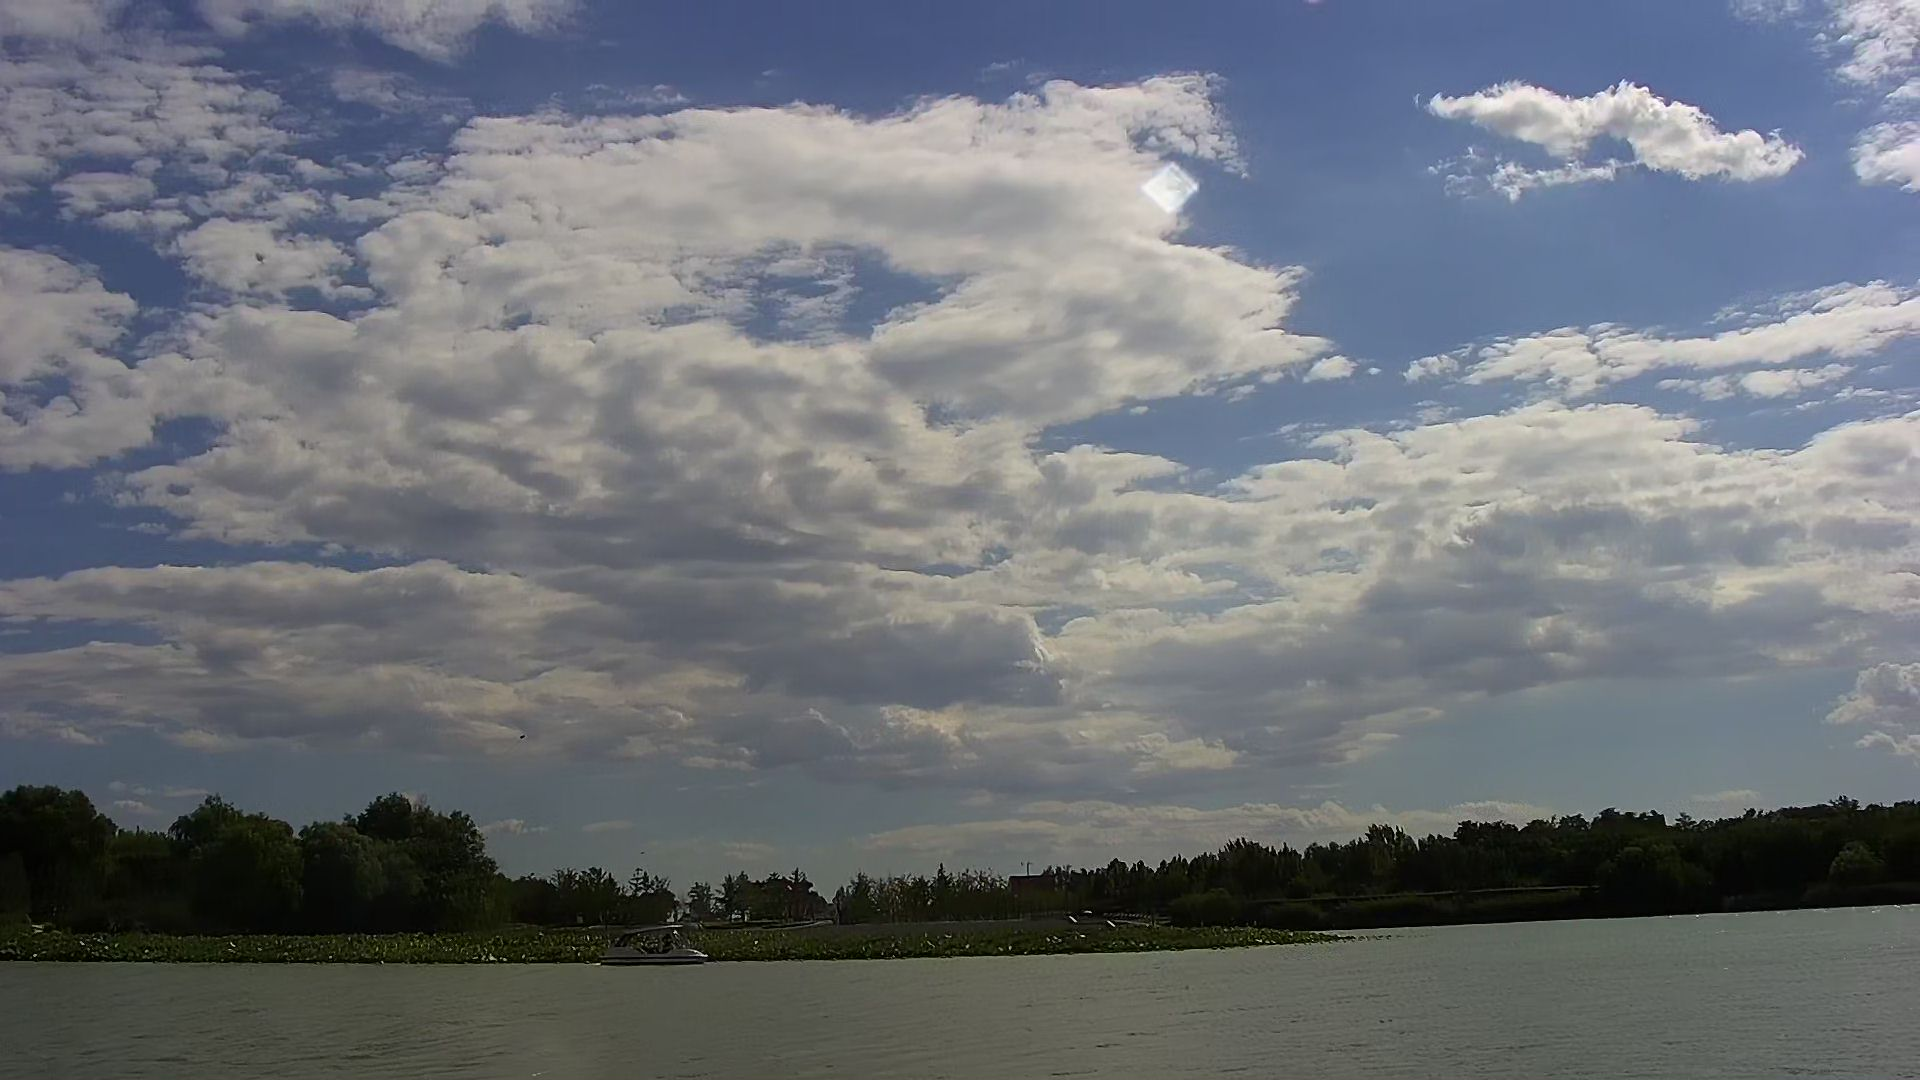boat: (596, 916, 721, 973)
